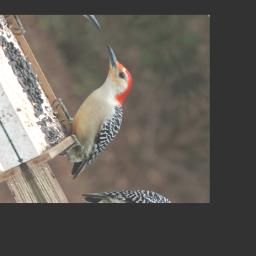Woodpecker: (20, 41, 165, 182)
